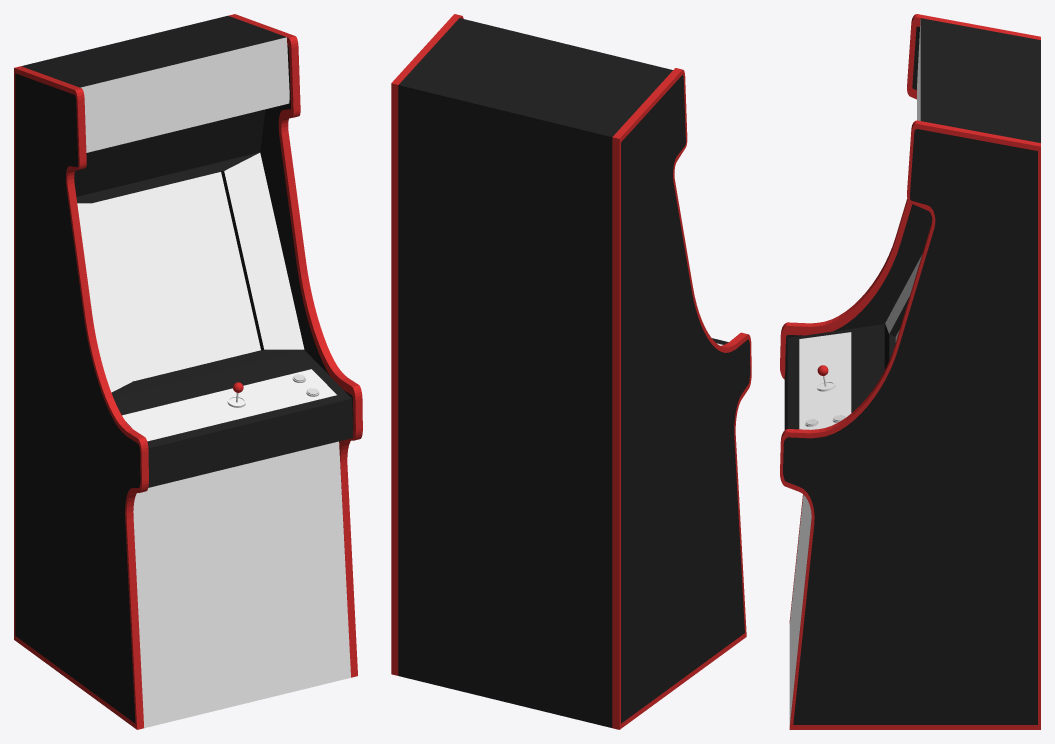
Rendered from arcade_machine.glb.
3 renders of one model, left to right at view 1: azimuth 30°, elevation 25°; view 2: azimuth 150°, elevation 25°; view 3: azimuth 270°, elevation 25°, orthographic. The views are drawn at different scales.
Parts seen in each view (by area): view 1: Cube.001, Cube.002, Cube, Cube.004; view 2: Cube.002, Cube.001, Cube, Cube.004; view 3: Cube.004, Cube.002, Cube.001, Cube.
Boxes of the visible parts, bbox=[...] form: Cube.001: bbox=[113, 350, 352, 727]; Cube.002: bbox=[21, 15, 304, 396]; Cube: bbox=[14, 66, 148, 729]; Cube.004: bbox=[228, 14, 362, 677]; Cube.002: bbox=[398, 18, 672, 431]; Cube.001: bbox=[398, 338, 728, 727]; Cube: bbox=[612, 68, 751, 729]; Cube.004: bbox=[391, 14, 463, 675]; Cube.004: bbox=[780, 120, 1040, 729]; Cube.002: bbox=[884, 18, 1040, 369]; Cube.001: bbox=[784, 324, 884, 725]; Cube: bbox=[780, 14, 1040, 623].
Size of the model in its own units: 4.32 by 11.1 by 4.33.
